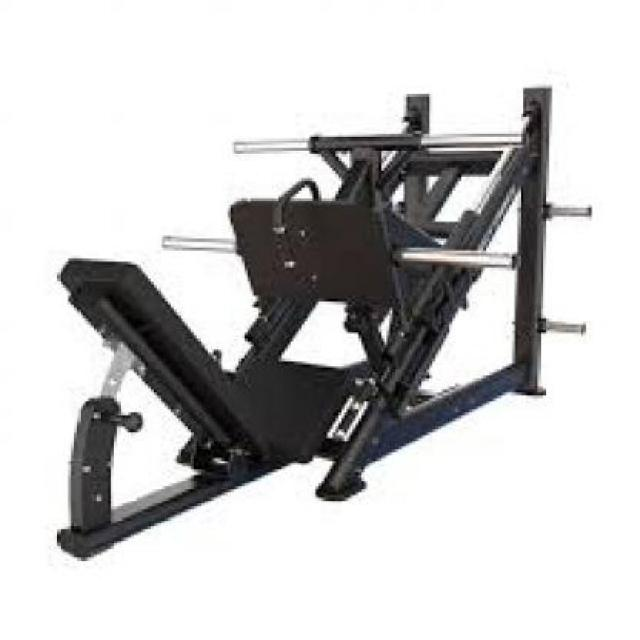leg press: (44, 80, 602, 558)
